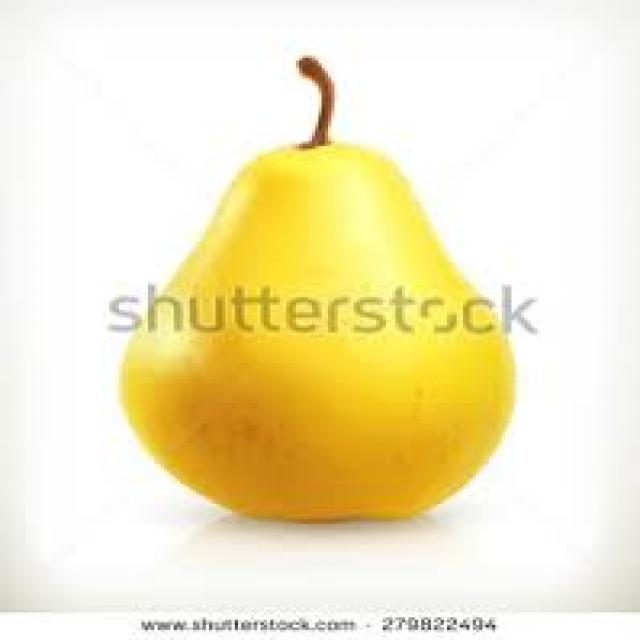organic waste: (116, 53, 518, 521)
